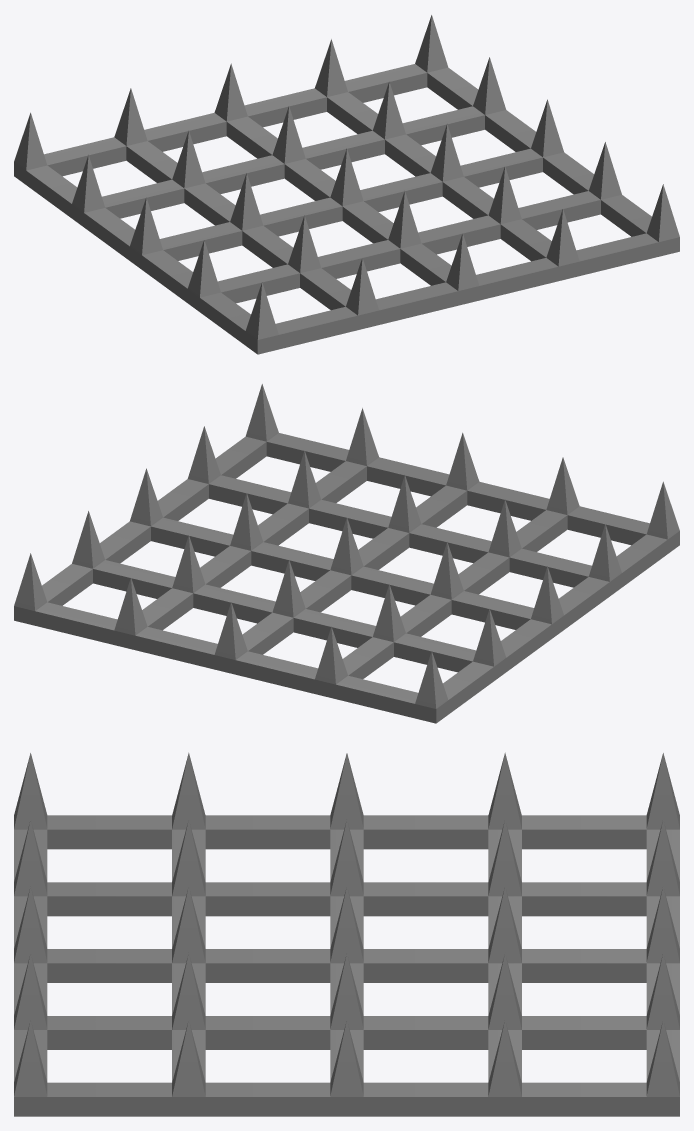
File: Iron_Barrier.fbx
3 views of the same model, one above another, from view 1: azimuth 30°, elevation 25°; view 2: azimuth 150°, elevation 25°; view 3: azimuth 270°, elevation 25° (orthographic). The views are drawn at different scales.
Parts seen in each view (by area): view 1: Iron_Barrier; view 2: Iron_Barrier; view 3: Iron_Barrier.
Boxes of the visible parts, bbox=[...] form: Iron_Barrier: bbox=[14, 15, 679, 354]; Iron_Barrier: bbox=[14, 384, 679, 723]; Iron_Barrier: bbox=[14, 752, 679, 1116].
Bounding box in the file's own units: 140 × 20.96 × 140.
1 material, 1 textured.
